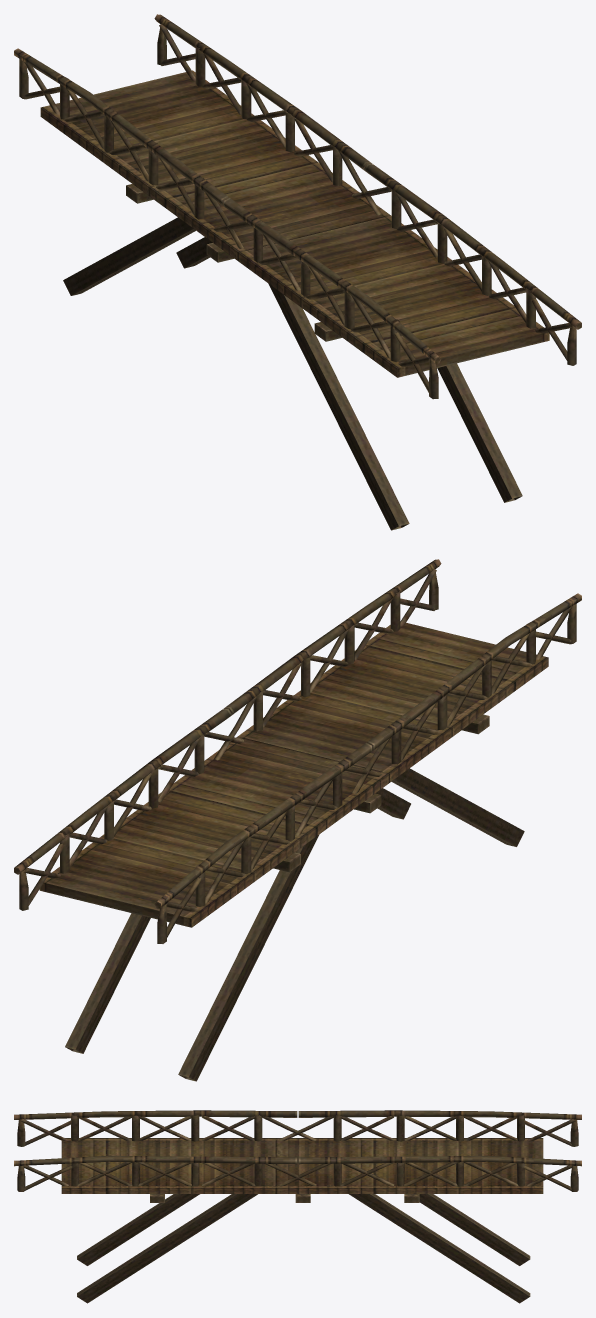
The picture shows the model from 3 angles, top to bottom: view 1: azimuth 30°, elevation 25°; view 2: azimuth 150°, elevation 25°; view 3: azimuth 270°, elevation 25°; orthographic projection. The views are drawn at different scales.
Visible parts, largest first — view 1: Object03; view 2: Object03; view 3: Object03.
Boxes of the visible parts, box(x1,y1,x2,y2) form: Object03: box(14, 14, 581, 530); Object03: box(14, 559, 581, 1081); Object03: box(14, 1110, 581, 1303).
Bounding box in the file's own units: 5.24 × 6.75 × 23.21.
